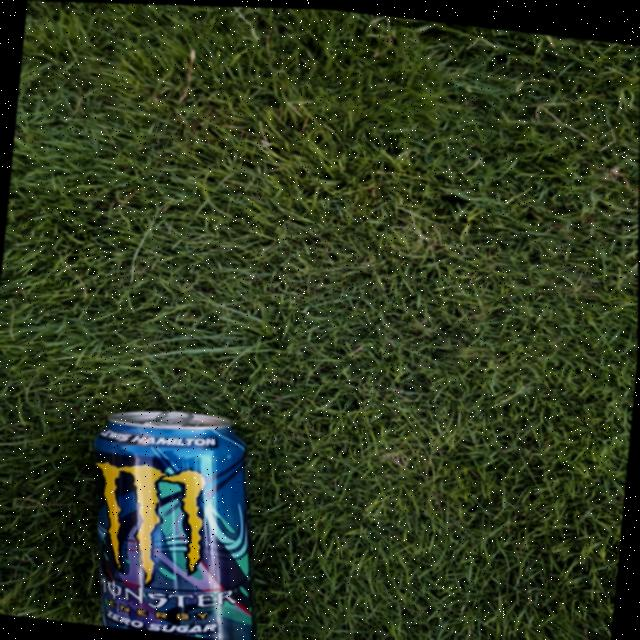Monster LH44: (56, 396, 271, 640)
